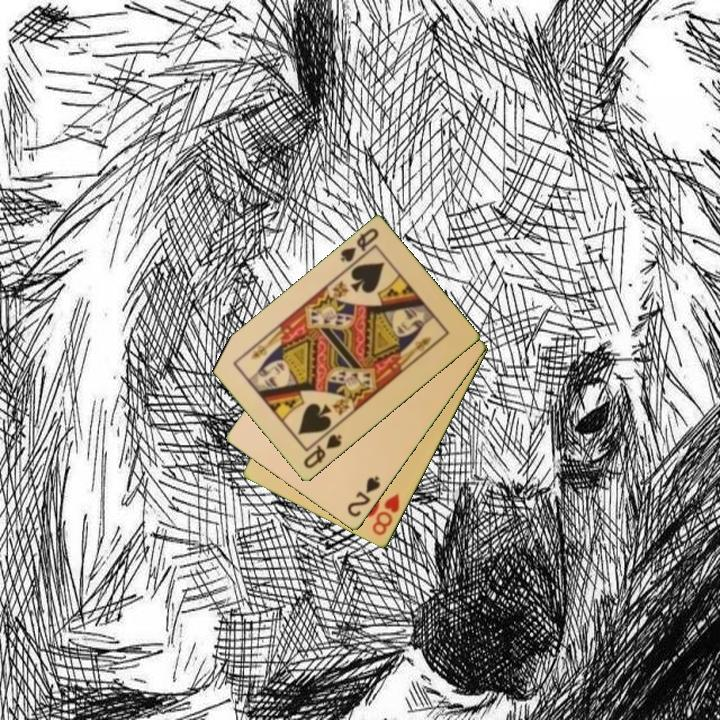2s: (344, 473, 383, 520)
8h: (369, 490, 403, 539)
Qs: (300, 431, 345, 472), (337, 225, 382, 266)
